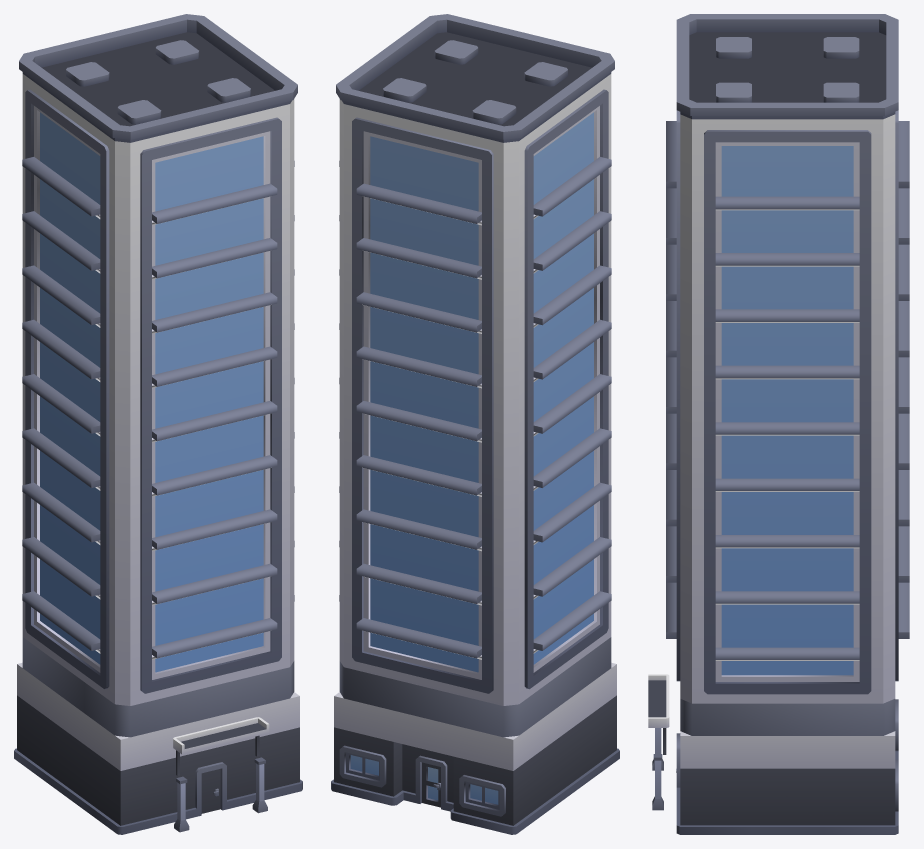
The model's file is office_tower_b.glb.
3 renders of one model, left to right at view 1: azimuth 30°, elevation 25°; view 2: azimuth 150°, elevation 25°; view 3: azimuth 270°, elevation 25°, orthographic. The views are drawn at different scales.
Visible parts, largest first — view 1: office_tower_b_building-skyscraper-b, detail-overhang-wide, bridge-pillar, bridge-pillar.001; view 2: office_tower_b_building-skyscraper-b; view 3: office_tower_b_building-skyscraper-b, detail-overhang-wide.
Part boxes in pixels (<box>): office_tower_b_building-skyscraper-b: <box>14,14,302,834</box>; detail-overhang-wide: <box>173,717,269,775</box>; bridge-pillar: <box>174,776,189,832</box>; bridge-pillar.001: <box>252,757,267,813</box>; office_tower_b_building-skyscraper-b: <box>331,14,619,834</box>; office_tower_b_building-skyscraper-b: <box>666,14,909,834</box>; detail-overhang-wide: <box>648,674,669,754</box>.
Size of the model in its own units: 13.96 by 46 by 14.96.
4 materials, 4 textured.
